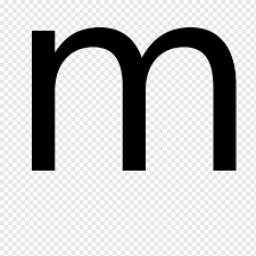m: (24, 20, 256, 186)
